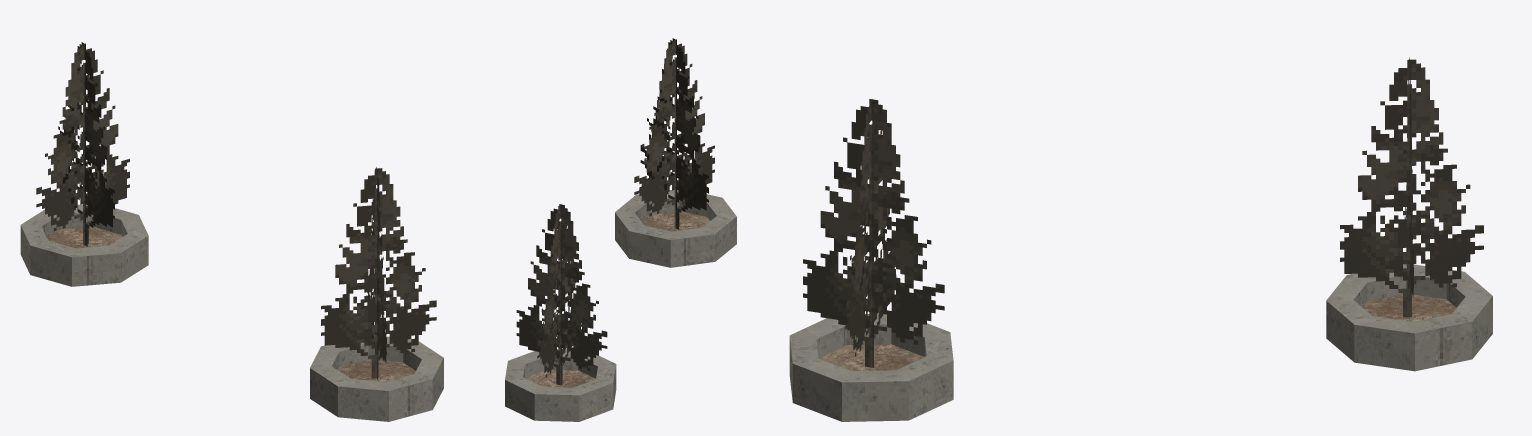
The model's file is procgen-procpain-tree-park-pine-large-x2z0.obj.
The picture shows the model from 3 angles, left to right: view 1: azimuth 30°, elevation 25°; view 2: azimuth 150°, elevation 25°; view 3: azimuth 270°, elevation 25°; orthographic projection. The views are drawn at different scales.
Size of the model in its own units: 10.24 by 9.68 by 22.93.
